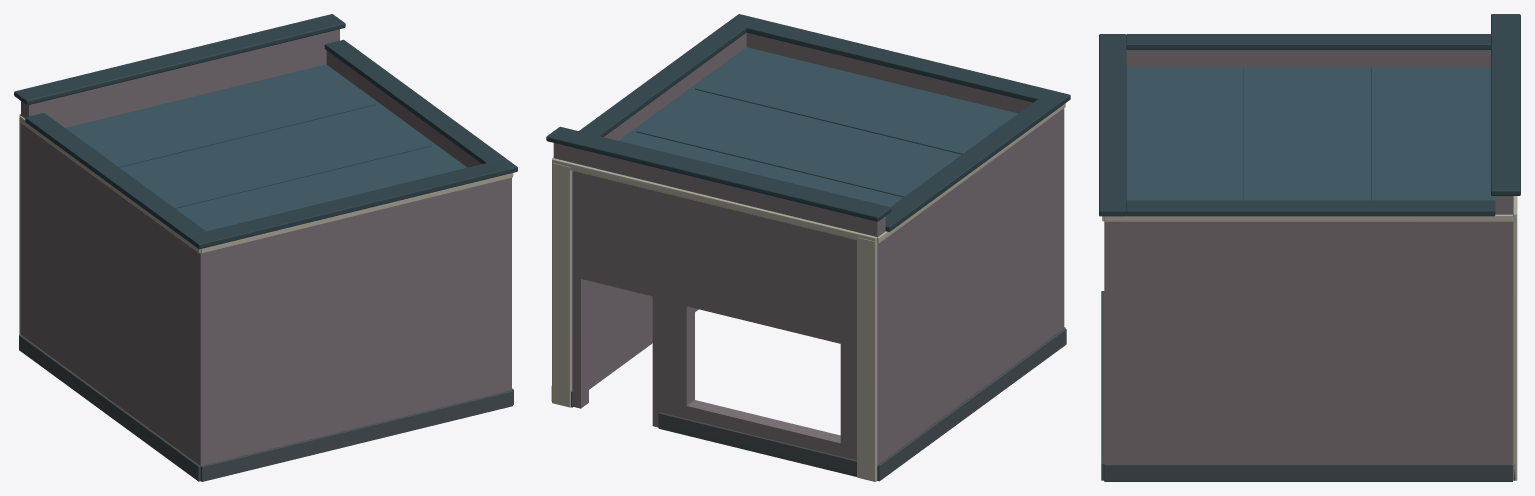
File: city_small_shop_shells_04.glb
3 views of the same model, side by side, from view 1: azimuth 30°, elevation 25°; view 2: azimuth 150°, elevation 25°; view 3: azimuth 270°, elevation 25° (orthographic). The views are drawn at different scales.
Parts seen in each view (by area): view 1: rear_wall, side_wall_left, flat_roof_deck, front_wall_two_openings, front_parapet_coping, rear_coping, plinth_rear, side_wall_right, side_coping_left, side_coping_right, plinth_left, rear_head_course (+3 smaller); view 2: front_wall_two_openings, side_wall_left, flat_roof_deck, side_wall_right, front_parapet_coping, rear_coping, front_pier_left, front_pier_right, rear_wall, side_coping_left, side_coping_right, plinth_left (+5 smaller); view 3: side_wall_right, flat_roof_deck, plinth_right, side_coping_right, side_wall_left, side_coping_left, front_parapet_coping, rear_coping, front_wall_two_openings, side_head_course_right, front_pier_right, plinth_rear.
Part boxes in pixels (bbox=[...]): rear_wall: bbox=[214, 181, 498, 462]; side_wall_left: bbox=[29, 129, 214, 481]; flat_roof_deck: bbox=[65, 64, 466, 231]; front_wall_two_openings: bbox=[21, 29, 339, 339]; front_parapet_coping: bbox=[14, 14, 345, 105]; rear_coping: bbox=[187, 158, 517, 249]; plinth_rear: bbox=[200, 390, 512, 481]; side_wall_right: bbox=[326, 51, 511, 393]; side_coping_left: bbox=[25, 113, 205, 240]; side_coping_right: bbox=[324, 39, 505, 163]; plinth_left: bbox=[19, 335, 200, 481]; rear_head_course: bbox=[200, 173, 512, 253]; front_wall_two_openings: bbox=[553, 143, 885, 480]; side_wall_left: bbox=[885, 108, 1064, 458]; flat_roof_deck: bbox=[619, 47, 1017, 207]; side_wall_right: bbox=[589, 32, 746, 389]; front_parapet_coping: bbox=[546, 126, 891, 221]; rear_coping: bbox=[727, 14, 1070, 108]; front_pier_left: bbox=[857, 237, 877, 481]; front_pier_right: bbox=[552, 162, 572, 407]; rear_wall: bbox=[746, 33, 1032, 113]; side_coping_left: bbox=[885, 99, 1057, 231]; side_coping_right: bbox=[579, 23, 746, 137]; plinth_left: bbox=[877, 328, 1066, 481]; side_wall_right: bbox=[1104, 222, 1495, 463]; flat_roof_deck: bbox=[1126, 67, 1495, 200]; plinth_right: bbox=[1104, 463, 1513, 481]; side_coping_right: bbox=[1126, 200, 1495, 216]; side_wall_left: bbox=[1126, 50, 1490, 66]; side_coping_left: bbox=[1126, 34, 1490, 49]; front_parapet_coping: bbox=[1491, 14, 1520, 195]; rear_coping: bbox=[1099, 34, 1126, 216]; front_wall_two_openings: bbox=[1495, 196, 1513, 463]; side_head_course_right: bbox=[1104, 214, 1513, 221]; front_pier_right: bbox=[1513, 208, 1517, 480]; plinth_rear: bbox=[1101, 291, 1104, 480].
Bounding box in the file's own units: 6.56 × 5.05 × 6.6.
